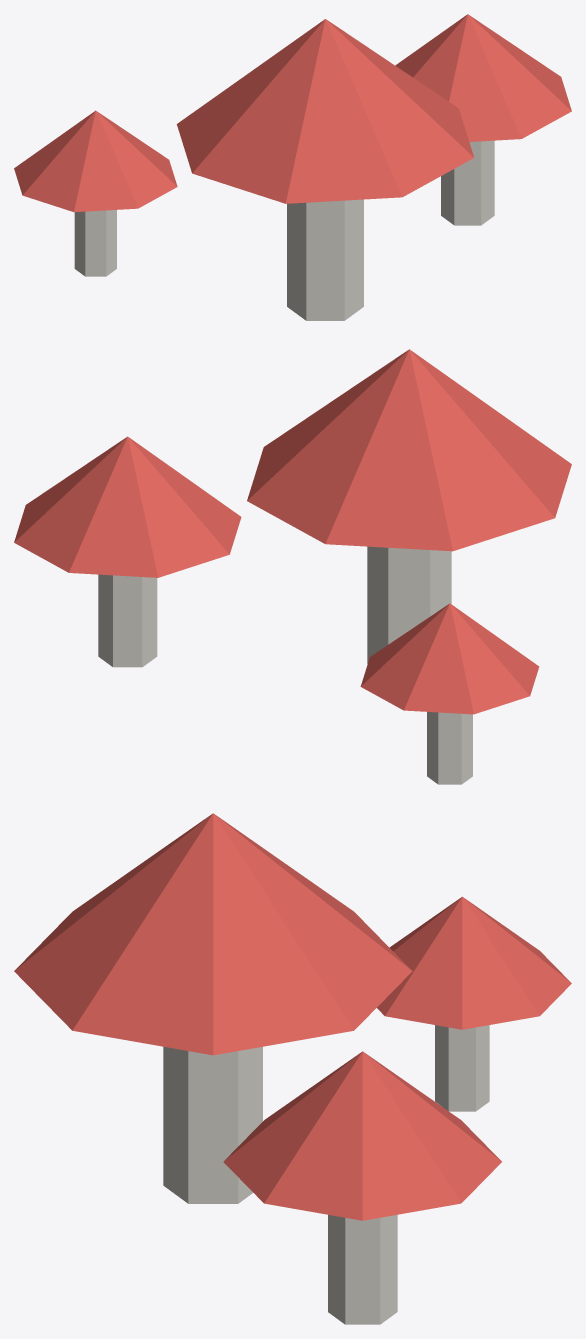
The model's file is SM_Mushrooms.fbx.
3 views of the same model, one above another, from view 1: azimuth 30°, elevation 25°; view 2: azimuth 150°, elevation 25°; view 3: azimuth 270°, elevation 25° (orthographic). The views are drawn at different scales.
Parts seen in each view (by area): view 1: SM_Mushrooms; view 2: SM_Mushrooms; view 3: SM_Mushrooms.
Boxes of the visible parts, x1,y1,x2,y2 form: SM_Mushrooms: [14, 14, 571, 320]; SM_Mushrooms: [14, 349, 571, 784]; SM_Mushrooms: [14, 813, 571, 1324].
Size of the model in its own units: 0.3 by 0.165 by 0.224.
